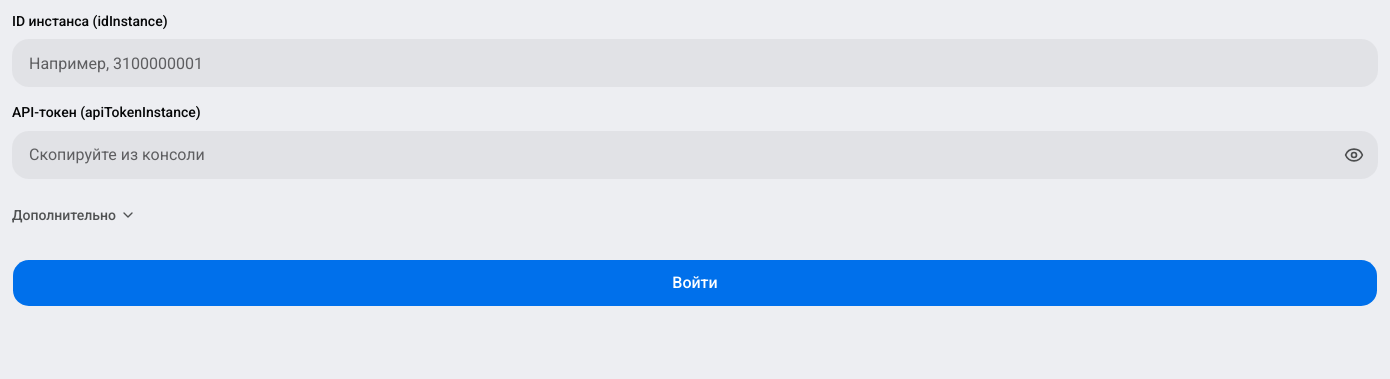
it: LoginForm › shows field errors when submitting an empty form
Click the button "Войти": (695, 282) [12,258,1378,306]
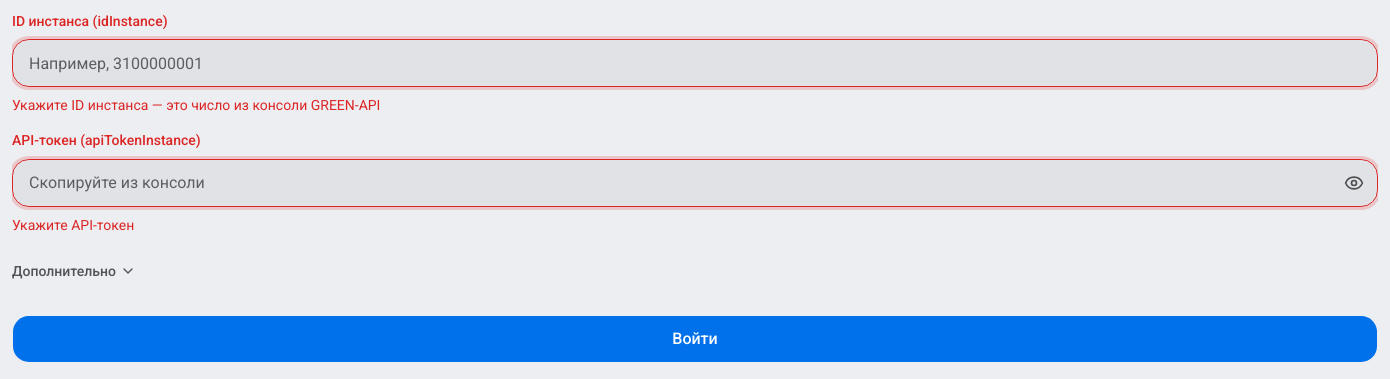
Check: the text "Укажите ID инстанса — это число из консоли GREEN-API" is shown, box [12,97,380,113]
Check: the text "Укажите API-токен" is shown, box [12,216,134,232]
